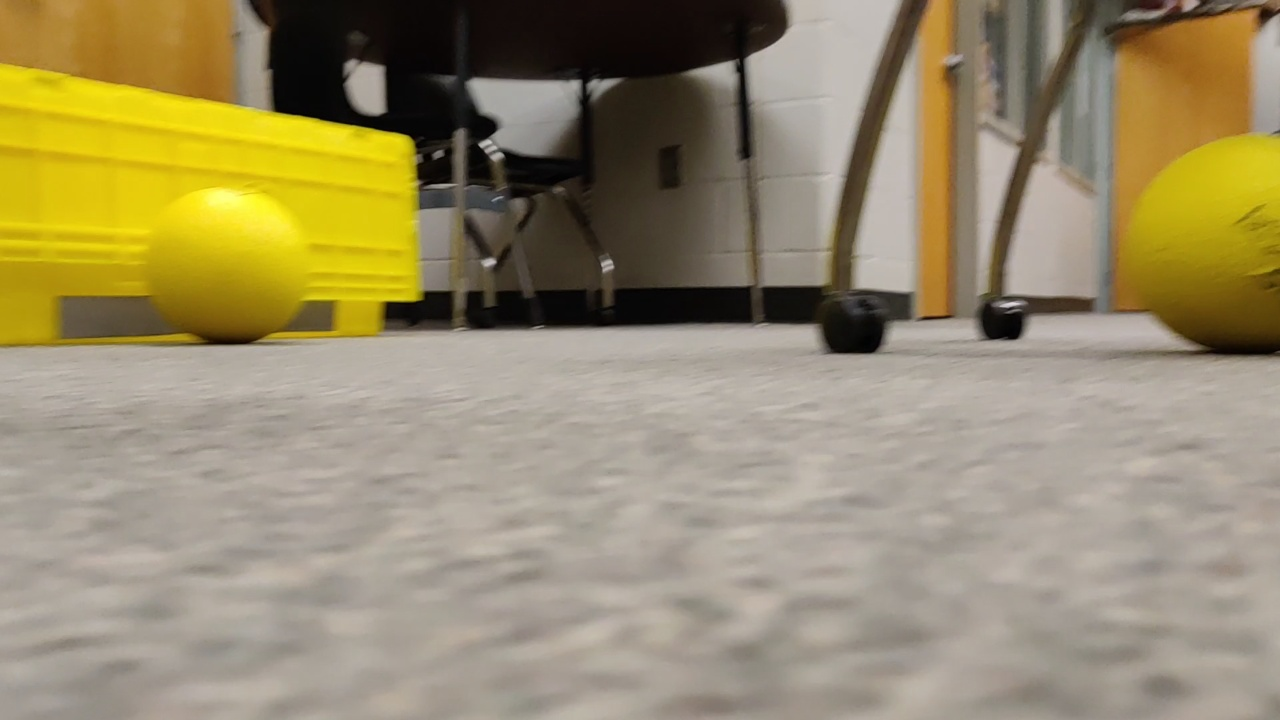Ball: (1119, 127, 1280, 361), (141, 184, 318, 352)
